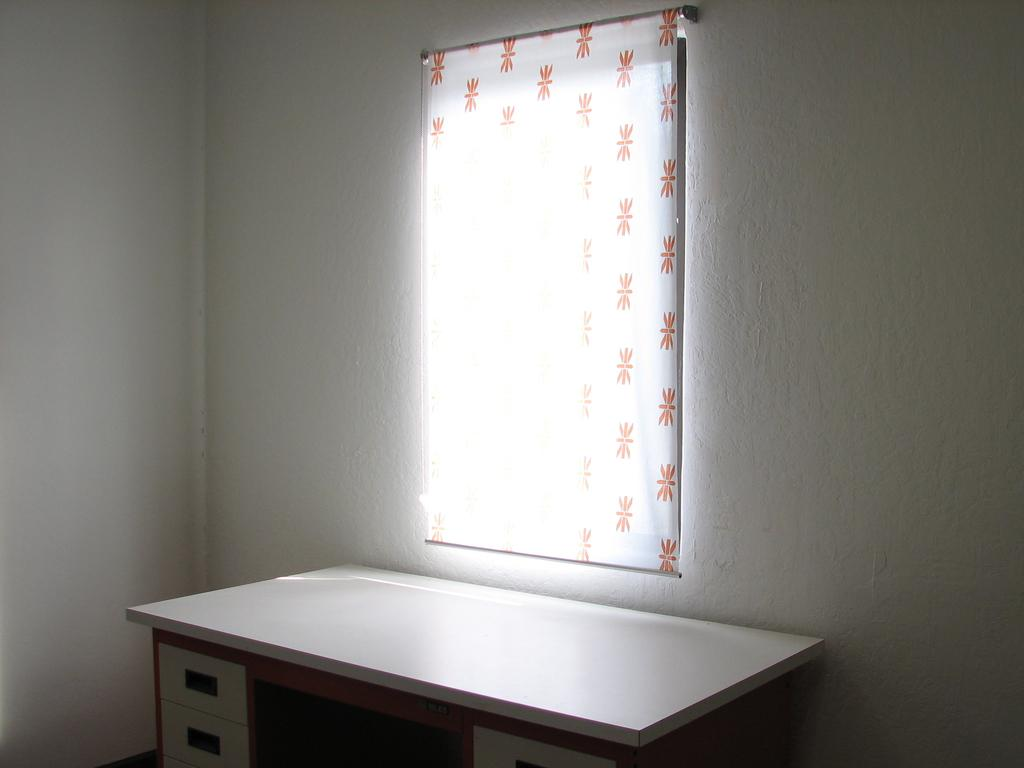cabinet_door: (158, 710, 242, 756), (163, 657, 241, 703)
handle: (184, 666, 221, 698), (186, 722, 222, 752)
